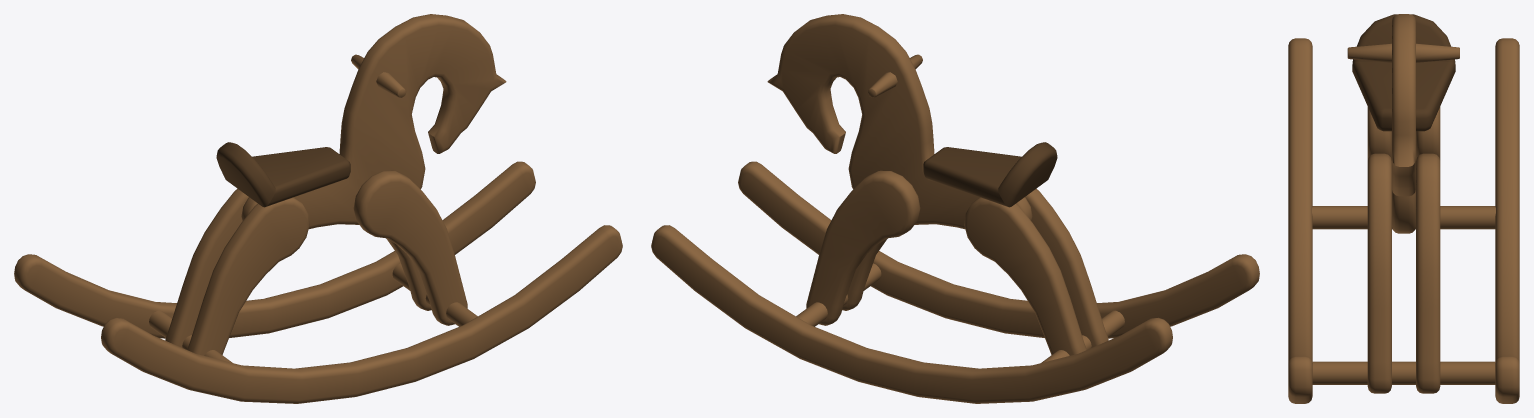
Rendered from medieval_horse.fbx.
The picture shows the model from 3 angles, left to right: view 1: azimuth 30°, elevation 25°; view 2: azimuth 150°, elevation 25°; view 3: azimuth 270°, elevation 25°; orthographic projection. The views are drawn at different scales.
Parts seen in each view (by area): view 1: horsey; view 2: horsey; view 3: horsey.
Part boxes in pixels (x1,y1,x2,y2): horsey: (14, 14, 622, 403); horsey: (651, 14, 1259, 403); horsey: (1288, 14, 1519, 403).
Bounding box in the file's own units: 6.56 × 3.86 × 2.13.
